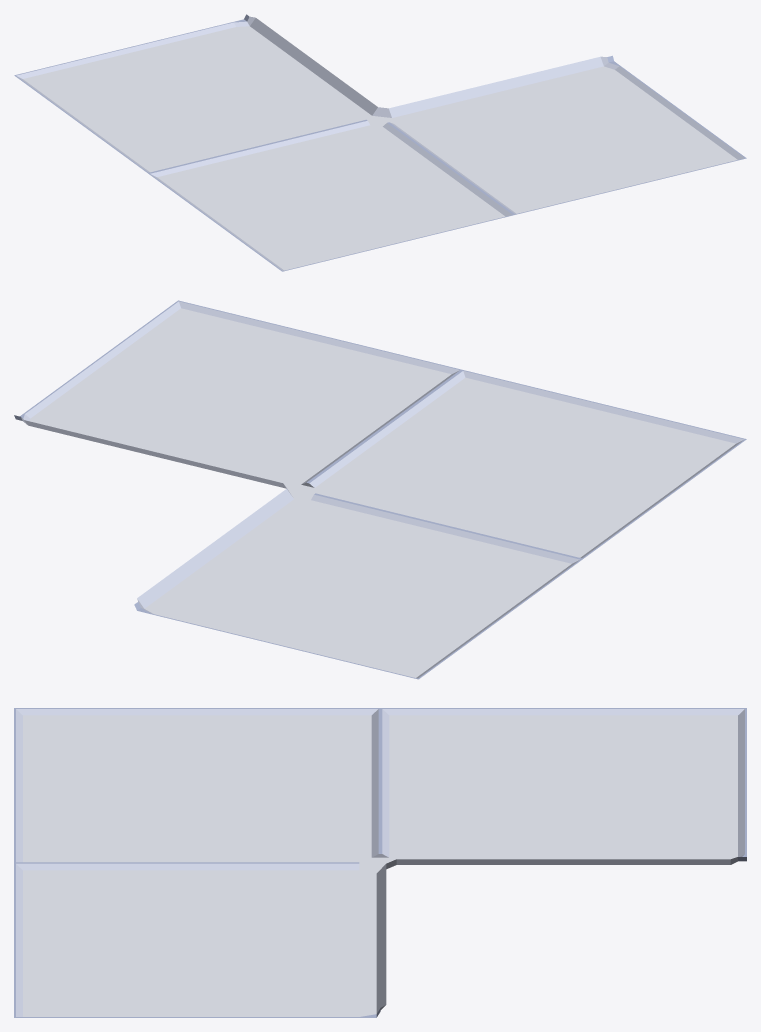
File: Tile_Ceiling_Corner_In_Cap.fbx
3 renders of one model, top to bottom at view 1: azimuth 30°, elevation 25°; view 2: azimuth 150°, elevation 25°; view 3: azimuth 270°, elevation 25°, orthographic. The views are drawn at different scales.
Parts seen in each view (by area): view 1: Tile_Floor_Corner_In_TopCap; view 2: Tile_Floor_Corner_In_TopCap; view 3: Tile_Floor_Corner_In_TopCap.
Part boxes in pixels (bbox=[...]): Tile_Floor_Corner_In_TopCap: bbox=[14, 14, 746, 271]; Tile_Floor_Corner_In_TopCap: bbox=[14, 300, 746, 679]; Tile_Floor_Corner_In_TopCap: bbox=[14, 708, 746, 1017].
Bounding box in the file's own units: 400 × 5.9 × 400.
1 material, 1 textured.
